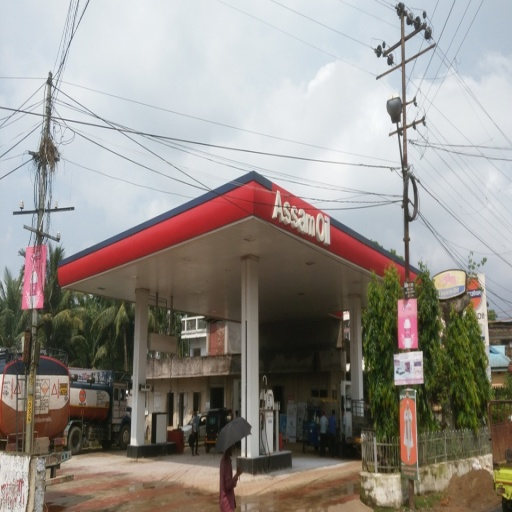roof: (45, 172, 444, 324)
